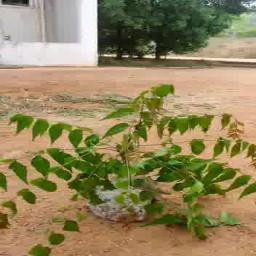Azadiractha Indica: (6, 98, 254, 224)
